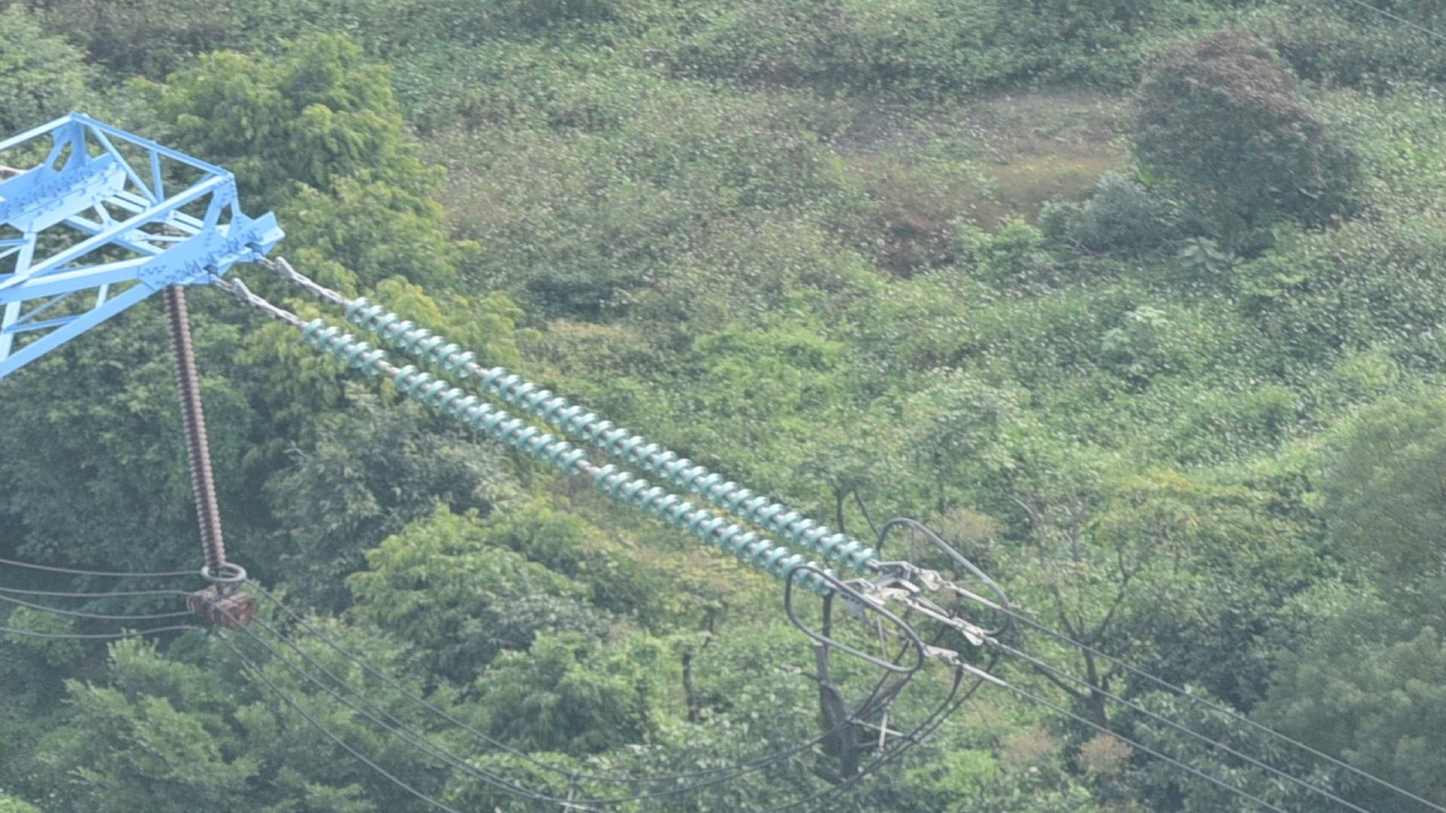insulator: (293, 289, 879, 601), (162, 281, 228, 571)
